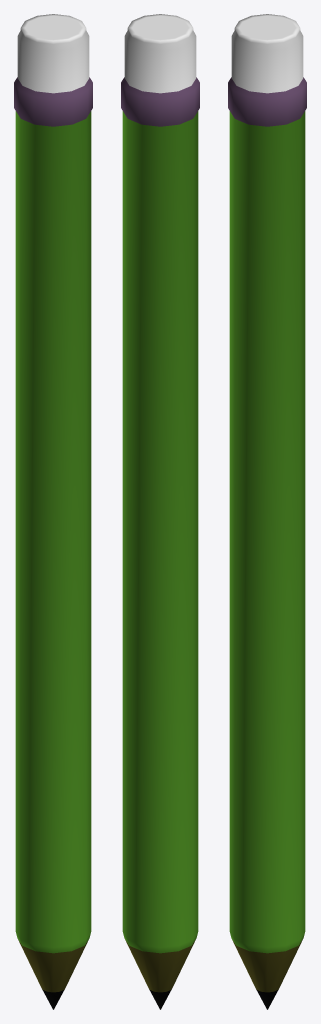
The model's file is pencil.fbx.
3 views of the same model, side by side, from view 1: azimuth 90°, elevation 25°; view 2: azimuth 150°, elevation 25°; view 3: azimuth 270°, elevation 25° (orthographic).
Visible parts, largest first — view 1: Cylinder; view 2: Cylinder; view 3: Cylinder.
Boxes of the visible parts, x1=… form: Cylinder: x1=14, y1=14, x2=92, y2=1009; Cylinder: x1=121, y1=14, x2=199, y2=1009; Cylinder: x1=228, y1=14, x2=306, y2=1009.
Bounding box in the file's own units: 39.76 × 546 × 39.76.
